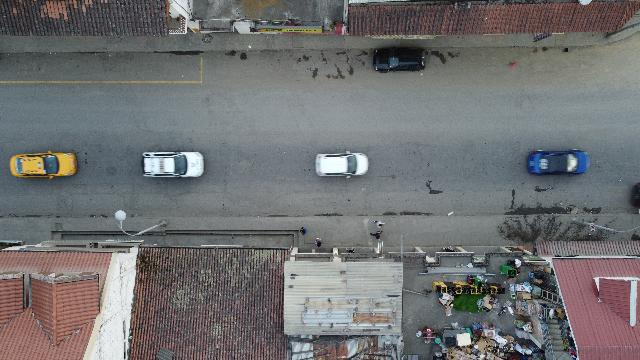Vehiculo: (9, 151, 76, 179), (142, 150, 204, 178), (527, 149, 589, 175), (316, 152, 368, 178), (374, 47, 426, 72)
